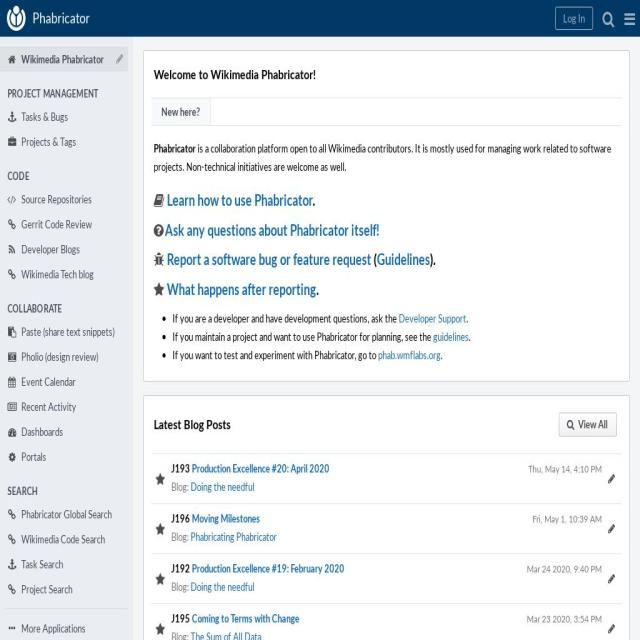button: (0, 0, 98, 37), (0, 46, 128, 72), (0, 186, 128, 212), (0, 236, 128, 262), (0, 526, 128, 552), (0, 576, 128, 602), (0, 104, 128, 129), (0, 129, 128, 154), (0, 319, 128, 344), (0, 344, 128, 369), (0, 369, 128, 394), (0, 394, 128, 419), (0, 419, 128, 444), (0, 444, 128, 469), (0, 212, 128, 236), (0, 262, 128, 286), (0, 502, 128, 526), (0, 552, 128, 576), (0, 616, 128, 640), (151, 98, 210, 125), (559, 412, 617, 437), (555, 7, 593, 30), (619, 0, 640, 37)
heading: (165, 218, 379, 240), (167, 248, 371, 270), (154, 64, 316, 84), (167, 278, 316, 299), (167, 189, 312, 210), (154, 414, 230, 434), (377, 248, 430, 270), (578, 416, 608, 432), (371, 248, 377, 270), (430, 248, 436, 270), (316, 278, 319, 299), (313, 189, 315, 210)
image: (4, 2, 28, 35)
link: (192, 561, 344, 576), (192, 461, 329, 476), (192, 611, 299, 626), (191, 529, 277, 544), (192, 511, 260, 526), (399, 311, 466, 326), (190, 479, 254, 494), (190, 579, 254, 594), (378, 348, 441, 362), (191, 629, 261, 640), (433, 329, 469, 344)
text: (154, 141, 611, 174), (173, 329, 433, 344), (172, 311, 398, 326), (173, 348, 378, 362), (21, 506, 112, 522), (21, 324, 114, 339), (8, 87, 98, 101), (33, 8, 95, 28), (21, 532, 105, 546), (21, 266, 94, 282), (21, 52, 104, 66), (21, 349, 98, 364), (21, 216, 92, 232), (21, 192, 92, 206), (21, 621, 86, 636), (527, 562, 602, 575), (527, 612, 602, 625), (528, 462, 602, 475), (532, 512, 602, 525), (21, 242, 80, 256), (21, 374, 76, 389), (22, 134, 76, 149), (22, 399, 76, 414), (8, 302, 62, 316), (21, 109, 68, 124), (22, 582, 72, 596), (21, 556, 63, 572), (21, 424, 63, 439), (154, 141, 196, 156), (161, 104, 200, 119), (8, 484, 38, 498), (22, 449, 46, 464), (563, 11, 585, 26), (8, 169, 30, 183), (171, 479, 191, 494), (171, 529, 191, 544), (171, 579, 191, 594), (171, 461, 190, 476), (171, 511, 190, 526), (171, 561, 190, 576), (171, 611, 190, 626), (171, 629, 191, 640), (468, 329, 471, 344), (466, 311, 468, 326), (440, 348, 442, 362)
